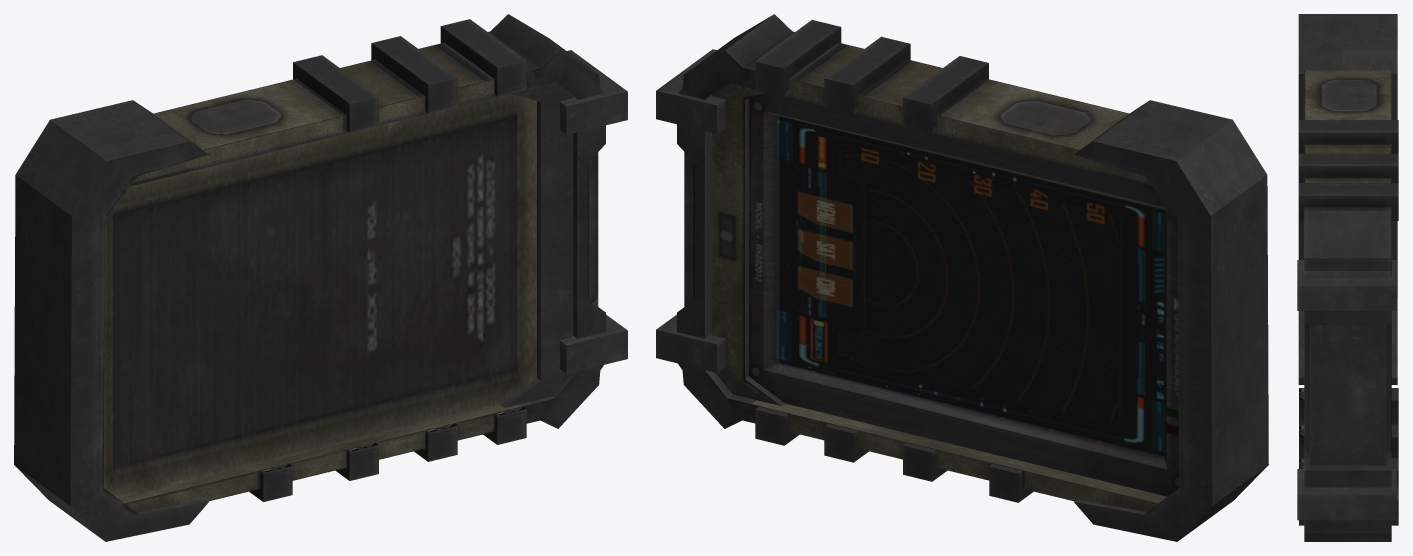
File: t6_wpn_pda_world_LOD0.obj
3 renders of one model, left to right at view 1: azimuth 30°, elevation 25°; view 2: azimuth 150°, elevation 25°; view 3: azimuth 270°, elevation 25°, orthographic. The views are drawn at different scales.
Parts seen in each view (by area): view 1: mtl_t6_wpn_pda; view 2: mtl_t6_wpn_pda; view 3: mtl_t6_wpn_pda.
Boxes of the visible parts, left/top/right/bottom form: mtl_t6_wpn_pda: left=14, top=14, right=627, bottom=541; mtl_t6_wpn_pda: left=656, top=14, right=1268, bottom=541; mtl_t6_wpn_pda: left=1297, top=14, right=1398, bottom=541.
Size of the model in its own units: 14.68 by 9.67 by 2.64.
